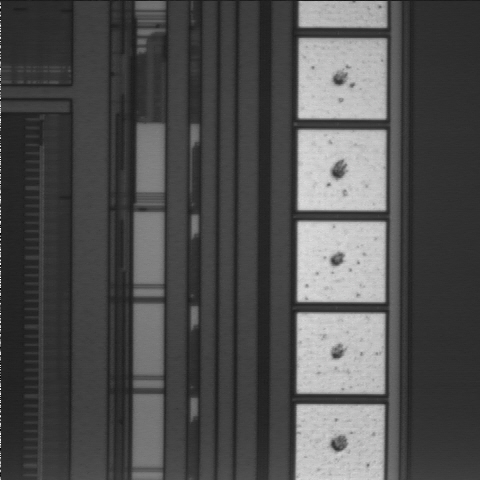pad: (297, 222, 385, 302), (298, 130, 385, 210), (297, 314, 384, 393), (299, 39, 385, 118)
